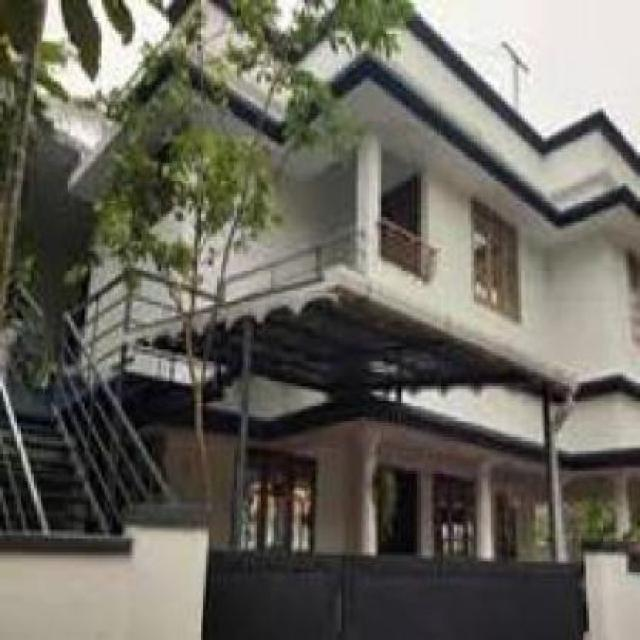stair: (3, 389, 163, 529)
